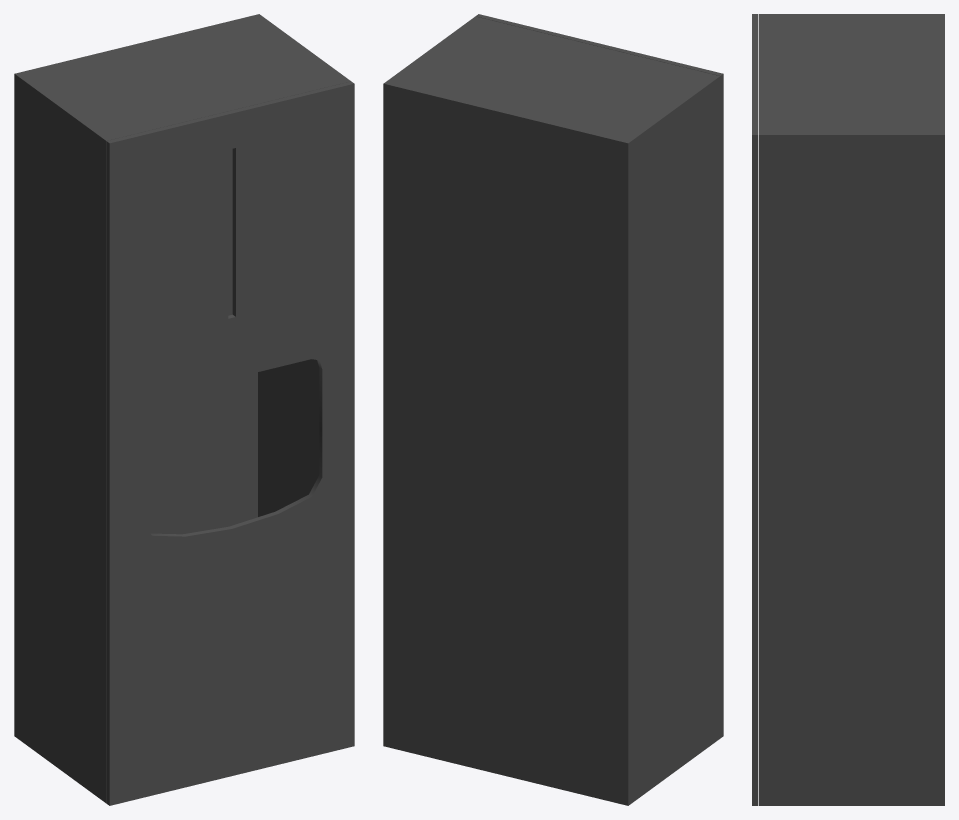
The model's file is LC_3100_papertowel_dispenser_LOD2.FBX.
3 renders of one model, left to right at view 1: azimuth 30°, elevation 25°; view 2: azimuth 150°, elevation 25°; view 3: azimuth 270°, elevation 25°, orthographic.
Visible parts, largest first — view 1: LC_3100_papertowel_dispenser_LOD2; view 2: LC_3100_papertowel_dispenser_LOD2; view 3: LC_3100_papertowel_dispenser_LOD2.
Part boxes in pixels (left/top/right/bottom): LC_3100_papertowel_dispenser_LOD2: left=14, top=14, right=354, bottom=805; LC_3100_papertowel_dispenser_LOD2: left=383, top=14, right=723, bottom=805; LC_3100_papertowel_dispenser_LOD2: left=752, top=14, right=944, bottom=805.
Size of the model in its own units: 18.32 by 47.37 by 12.33.
Materials: 1 (1 with a texture image).
